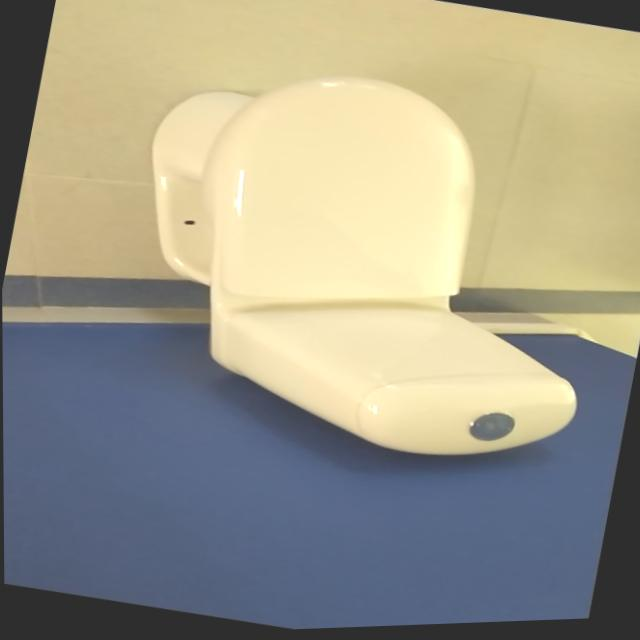toilet: (99, 35, 632, 496)
